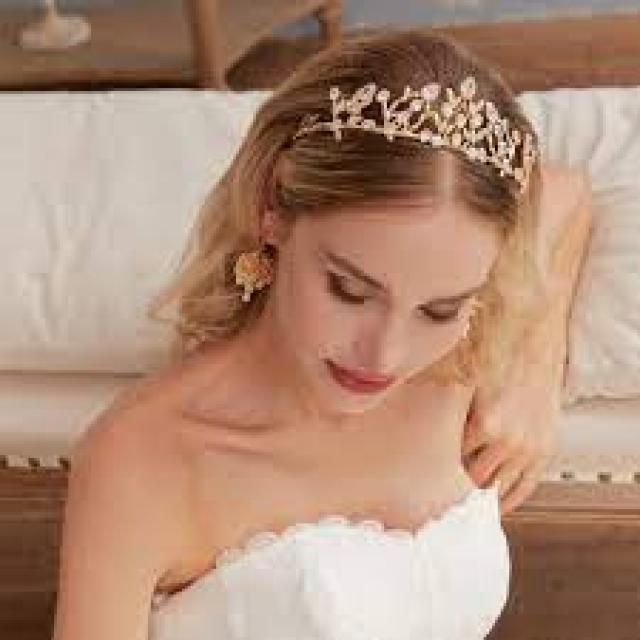Earring: (220, 221, 279, 315)
